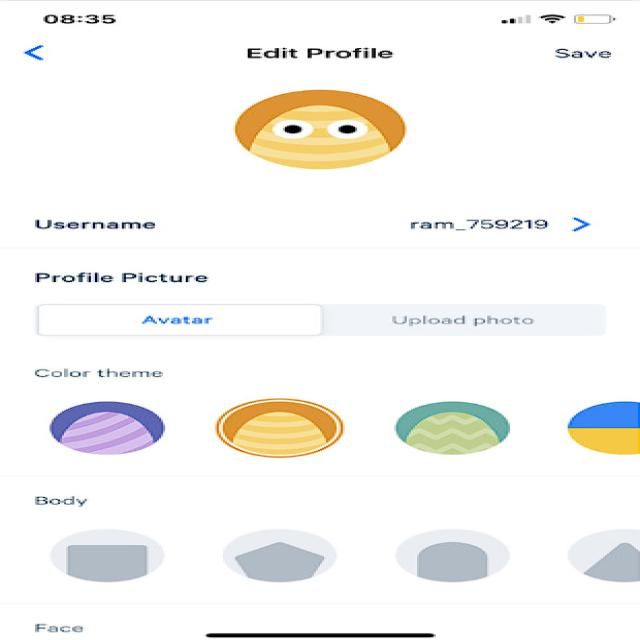button: (6, 294, 354, 354)
icon button: (9, 32, 73, 72)
row: (8, 506, 640, 600), (8, 381, 640, 474)
text: (216, 36, 438, 64), (18, 266, 238, 290), (18, 212, 202, 238), (392, 215, 561, 236)
view: (218, 79, 418, 182), (375, 387, 535, 468), (201, 388, 358, 466), (24, 518, 189, 592), (33, 388, 181, 464), (372, 520, 524, 591), (205, 519, 354, 589), (543, 521, 640, 596), (555, 391, 640, 464)
